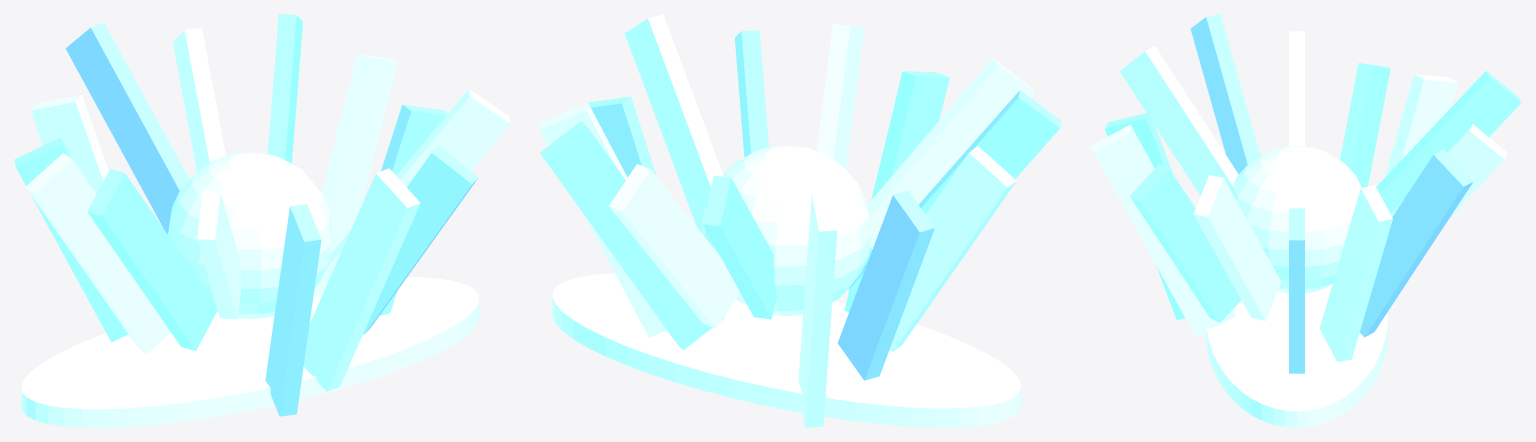
File: frost_impact.glb
3 renders of one model, left to right at view 1: azimuth 30°, elevation 25°; view 2: azimuth 150°, elevation 25°; view 3: azimuth 270°, elevation 25°, orthographic. The views are drawn at different scales.
Visible parts, largest first — view 1: frost impact fractured hit ring, frost impact frozen core, frost impact ice shard 11, frost impact ice shard 8, frost impact ice shard 4, frost impact ice shard 7, frost impact ice shard 1, frost impact ice shard 10, frost impact ice shard 12, frost impact ice shard 13, frost impact ice shard 3, frost impact ice shard 9 (+4 smaller); view 2: frost impact fractured hit ring, frost impact frozen core, frost impact ice shard 2, frost impact ice shard 3, frost impact ice shard 6, frost impact ice shard 13, frost impact ice shard 7, frost impact ice shard 9, frost impact ice shard 5, frost impact ice shard 4, frost impact ice shard 8, frost impact ice shard 10 (+4 smaller); view 3: frost impact fractured hit ring, frost impact frozen core, frost impact ice shard 2, frost impact ice shard 12, frost impact ice shard 9, frost impact ice shard 1, frost impact ice shard 13, frost impact ice shard 11, frost impact ice shard 4, frost impact ice shard 8, frost impact ice shard 6, frost impact ice shard 5 (+4 smaller).
Boxes of the visible parts, x1,y1,x2,y2 form: frost impact fractured hit ring: (21, 277, 479, 427); frost impact frozen core: (168, 152, 333, 318); frost impact ice shard 11: (303, 168, 420, 391); frost impact ice shard 8: (87, 169, 217, 350); frost impact ice shard 4: (65, 22, 189, 234); frost impact ice shard 7: (26, 153, 170, 353); frost impact ice shard 1: (313, 53, 397, 296); frost impact ice shard 10: (265, 204, 321, 416); frost impact ice shard 12: (363, 146, 478, 334); frost impact ice shard 13: (322, 89, 510, 281); frost impact ice shard 3: (172, 27, 225, 171); frost impact ice shard 9: (197, 191, 241, 319); frost impact fractured hit ring: (552, 273, 1021, 427); frost impact frozen core: (702, 145, 871, 315); frost impact ice shard 2: (540, 121, 724, 350); frost impact ice shard 3: (609, 164, 740, 328); frost impact ice shard 6: (837, 190, 934, 380); frost impact ice shard 13: (624, 14, 723, 234); frost impact ice shard 7: (889, 146, 1016, 351); frost impact ice shard 9: (867, 58, 1034, 248); frost impact ice shard 5: (798, 193, 837, 427); frost impact ice shard 4: (702, 175, 776, 319); frost impact ice shard 8: (848, 90, 1061, 294); frost impact ice shard 10: (844, 71, 949, 312); frost impact fractured hit ring: (1205, 284, 1387, 427); frost impact frozen core: (1230, 146, 1361, 292); frost impact ice shard 2: (1359, 149, 1473, 337); frost impact ice shard 12: (1130, 164, 1241, 322); frost impact ice shard 9: (1119, 46, 1238, 195); frost impact ice shard 1: (1319, 185, 1392, 362); frost impact ice shard 13: (1193, 175, 1281, 320); frost impact ice shard 11: (1090, 124, 1235, 337); frost impact ice shard 4: (1376, 71, 1521, 213); frost impact ice shard 8: (1190, 14, 1260, 174); frost impact ice shard 6: (1340, 63, 1390, 187); frost impact ice shard 5: (1385, 74, 1457, 307).
Size of the model in its own units: 0.8 by 0.4761 by 0.7557.
